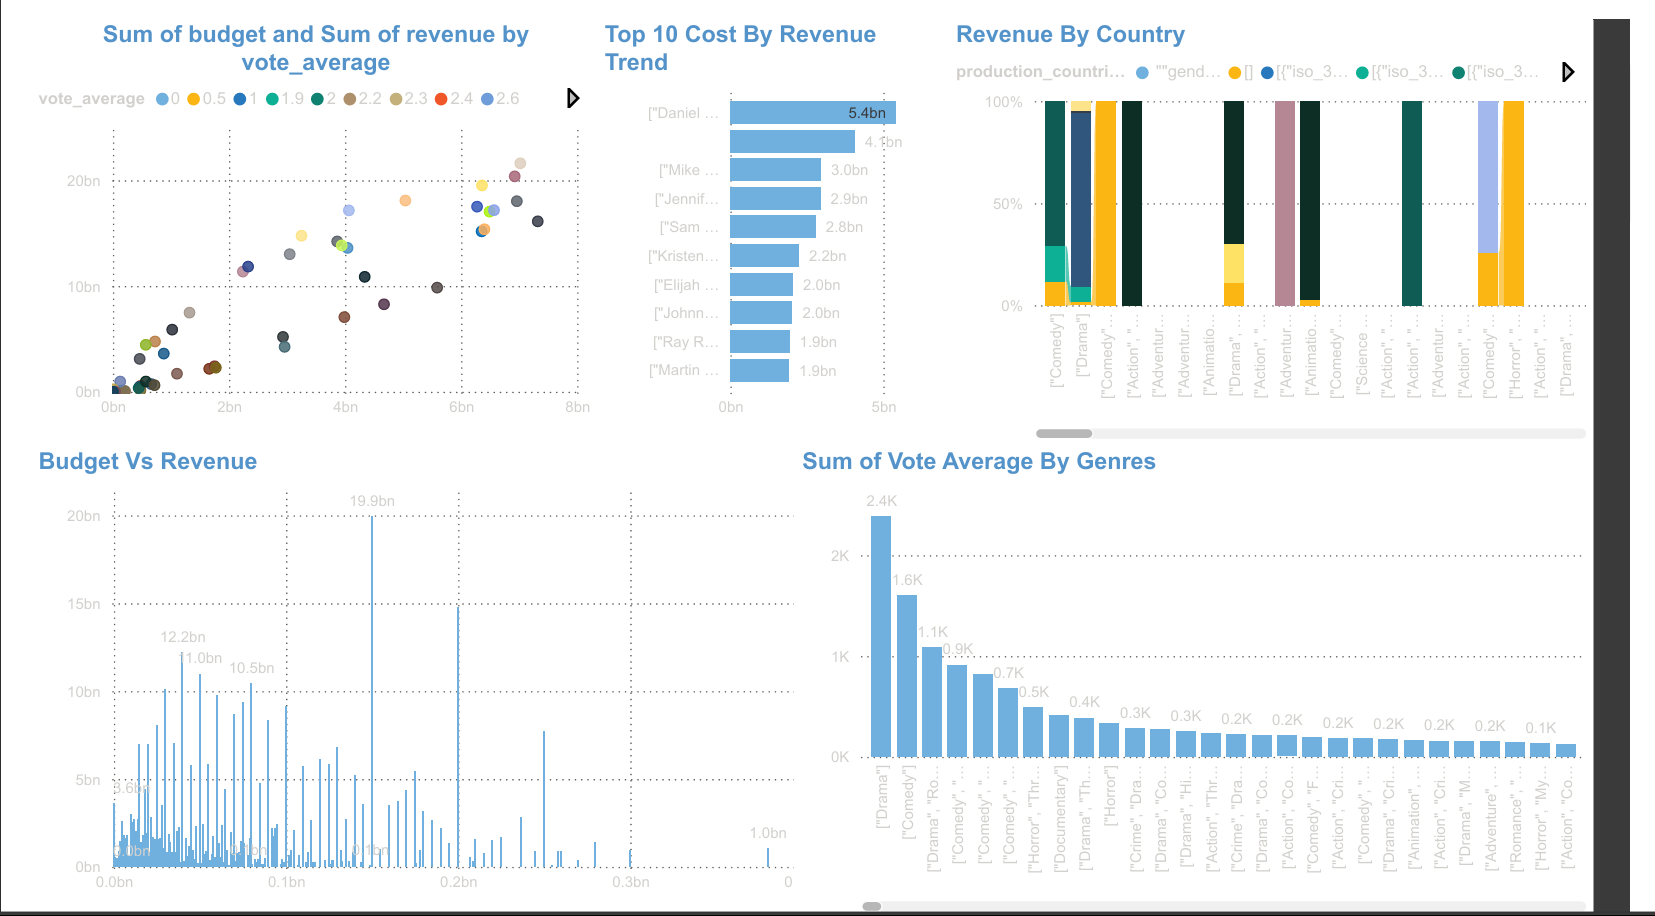

What the dashboard file says about the page in this screenshot:
{"tool":"powerbi","page":{"name":"Movie Dashboard","canvas":[1280,720],"ordinal":0},"visuals":[{"type":"clusteredColumnChart","title":"Budget Vs Revenue","fields":{"Category":["cleaned_movies_fixed_clean.budget"],"Y":["cleaned_movies_fixed_clean.revenue"]},"box":[0,341.4,639.5,379.3],"z":0},{"type":"clusteredColumnChart","title":"Sum of Vote Average By Genres","fields":{"Category":["cleaned_movies_fixed_clean.genres"],"Y":["cleaned_movies_fixed_clean.vote_average"]},"box":[611,341.4,639.5,378],"z":1000},{"type":"scatterChart","fields":{"Y":["cleaned_movies_fixed_clean.revenue"],"Series":["cleaned_movies_fixed_clean.vote_average"],"X":["cleaned_movies_fixed_clean.budget"]},"box":[0,0,453.9,341.4],"z":2000},{"type":"clusteredBarChart","title":"Top 10 Cost By Revenue Trend","fields":{"Y":["cleaned_movies_fixed_clean.revenue"],"Category":["cleaned_movies_fixed_clean.top_cast"]},"box":[453.4,0,281.5,341],"z":3000},{"type":"hundredPercentStackedColumnChart","title":"Revenue By Country","fields":{"Category":["cleaned_movies_fixed_clean.genres"],"Y":["cleaned_movies_fixed_clean.revenue"],"Series":["cleaned_movies_fixed_clean.production_countries"]},"box":[734,0,516,341],"z":4000}]}

Visuals, with their boxes in screenshot pixels (x1, y1, x2, y2), scaled from the page's 1280x720 canvas onto the 1655x916 screenshot:
"Budget Vs Revenue" clusteredColumnChart: detection(0, 434, 827, 915)
"Sum of Vote Average By Genres" clusteredColumnChart: detection(790, 434, 1617, 915)
scatterChart - cleaned_movies_fixed_clean.revenue x cleaned_movies_fixed_clean.vote_average: detection(0, 0, 587, 434)
"Top 10 Cost By Revenue Trend" clusteredBarChart: detection(586, 0, 950, 434)
"Revenue By Country" hundredPercentStackedColumnChart: detection(949, 0, 1616, 434)
